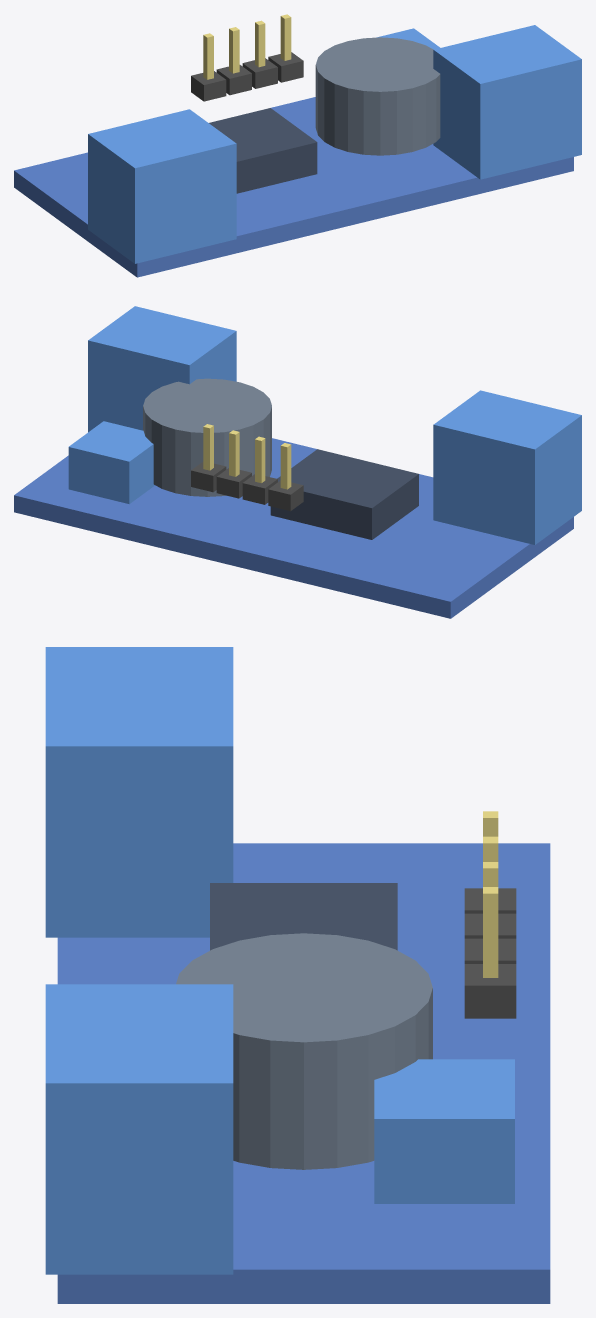
The model's file is buck-converter-lm2596.glb.
3 renders of one model, top to bottom at view 1: azimuth 30°, elevation 25°; view 2: azimuth 150°, elevation 25°; view 3: azimuth 270°, elevation 25°, orthographic. The views are drawn at different scales.
Visible parts, largest first — view 1: buck-converter-lm2596_mesh; view 2: buck-converter-lm2596_mesh; view 3: buck-converter-lm2596_mesh.
Part boxes in pixels (x1,y1,x2,y2): buck-converter-lm2596_mesh: (14, 14, 581, 277); buck-converter-lm2596_mesh: (14, 306, 581, 618); buck-converter-lm2596_mesh: (45, 647, 550, 1303).
Size of the model in its own units: 44 by 11.2 by 21.5.
